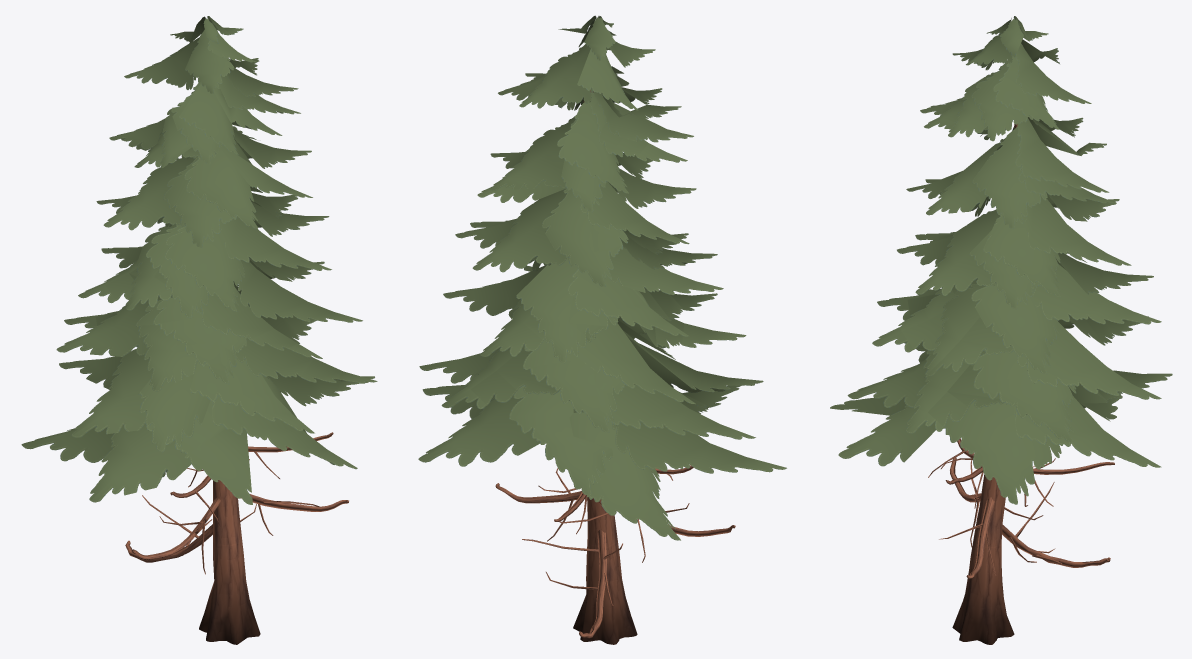
File: pinew4.glb
3 views of the same model, side by side, from view 1: azimuth 30°, elevation 25°; view 2: azimuth 150°, elevation 25°; view 3: azimuth 270°, elevation 25° (orthographic). The views are drawn at different scales.
Parts seen in each view (by area): view 1: Pine_4; view 2: Pine_4; view 3: Pine_4.
Part boxes in pixels (x1,y1,x2,y2): Pine_4: (21,16,377,644); Pine_4: (418,15,786,644); Pine_4: (830,16,1172,644).
Size of the model in its own units: 5.8 by 10.24 by 5.37.
2 materials, 2 textured.
